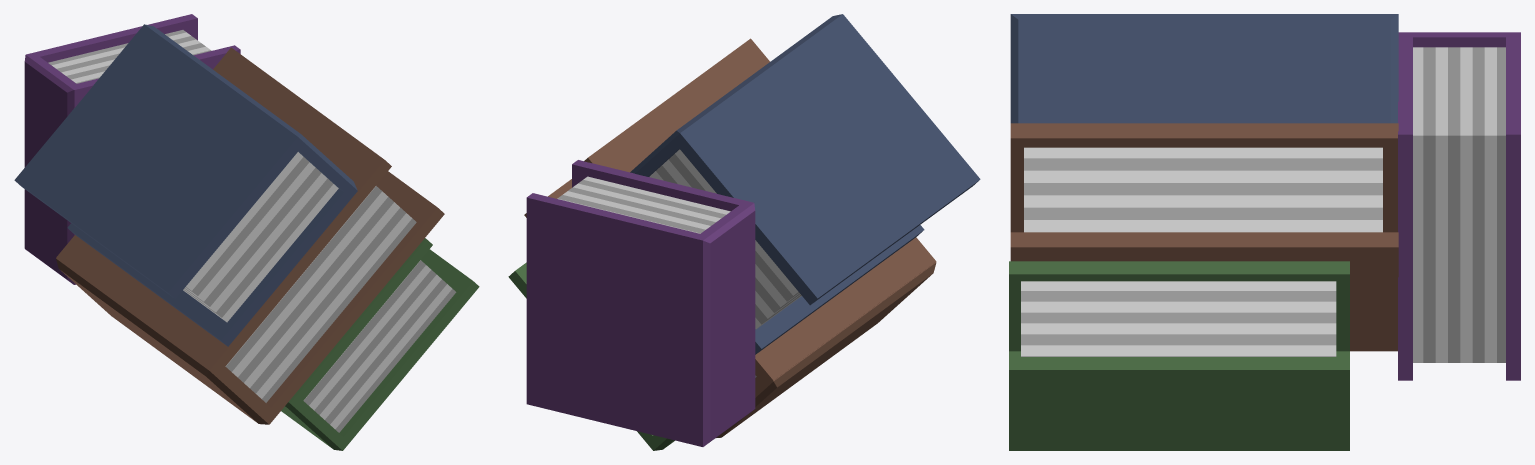
File: SM_Books.fbx
3 renders of one model, left to right at view 1: azimuth 30°, elevation 25°; view 2: azimuth 150°, elevation 25°; view 3: azimuth 270°, elevation 25°, orthographic. The views are drawn at different scales.
Visible parts, largest first — view 1: pCube4; view 2: pCube4; view 3: pCube4.
Part boxes in pixels (left/top/right/bottom): pCube4: left=14, top=14, right=479, bottom=450; pCube4: left=508, top=14, right=980, bottom=450; pCube4: left=1009, top=14, right=1520, bottom=450.
Size of the model in its own units: 11.8 by 11.77 by 13.33.
